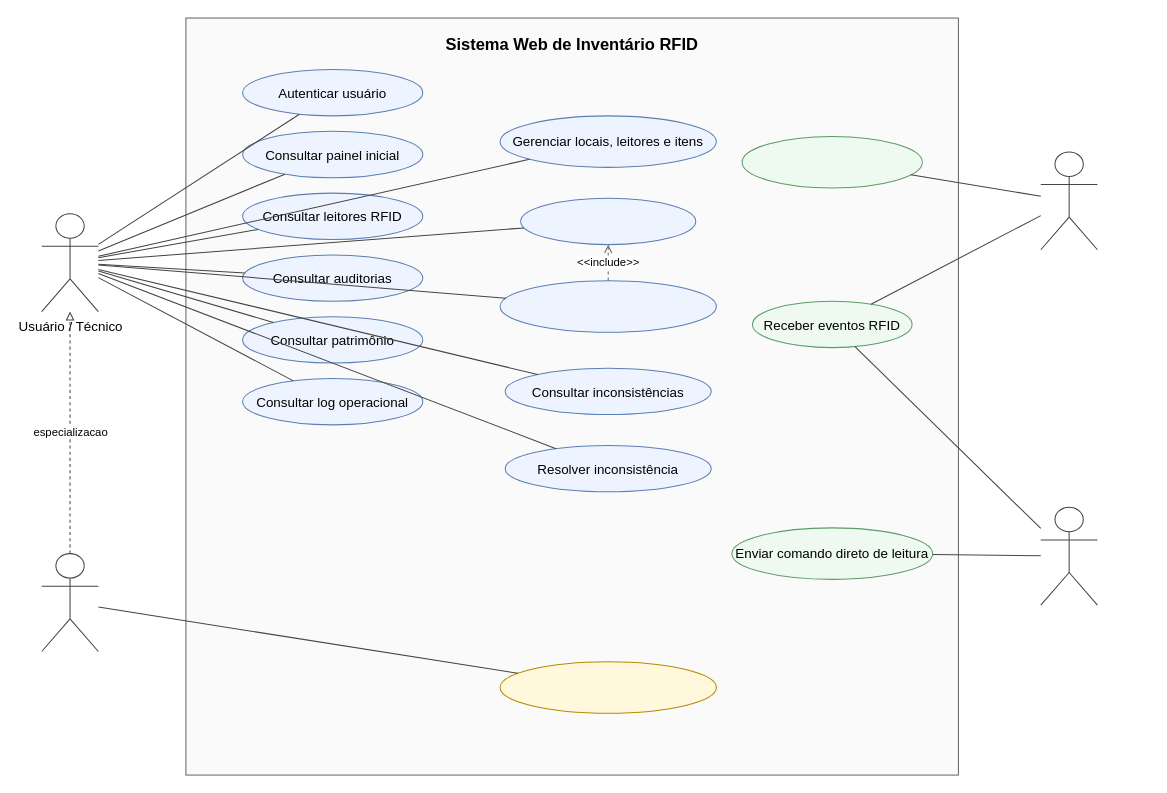
Some shapes in this 1167 by 793 pixel diagram are drawn without their labels. Each missing label, with the box of its shape:
Acionar leitor: (520, 197, 696, 245)
Administrador: (41, 553, 98, 651)
Comunicador intermediário (validado com leitor USB): (1040, 151, 1097, 250)
Consultar comando de leitura: (741, 135, 922, 188)
Executar auditoria patrimonial: (499, 280, 716, 332)
Gerenciar usuários e permissões: (499, 661, 716, 713)
Leitor ou gateway em rede (verificado por software): (1040, 506, 1097, 605)
